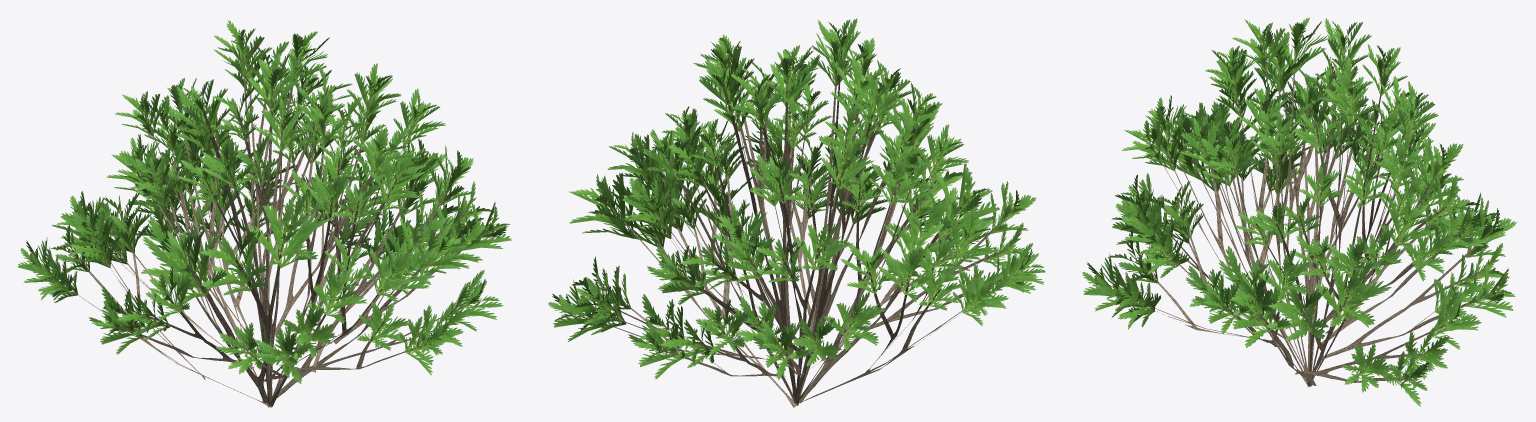
File: Bush Game Asset.fbx
3 renders of one model, left to right at view 1: azimuth 30°, elevation 25°; view 2: azimuth 150°, elevation 25°; view 3: azimuth 270°, elevation 25°, orthographic. The views are drawn at different scales.
Visible parts, largest first — view 1: Plane.078; view 2: Plane.078; view 3: Plane.078.
Part boxes in pixels (x1,y1,x2,y2): Plane.078: (17, 20, 511, 407); Plane.078: (548, 18, 1045, 407); Plane.078: (1082, 17, 1516, 406).
Bounding box in the file's own units: 91.37 × 71.99 × 80.14.
